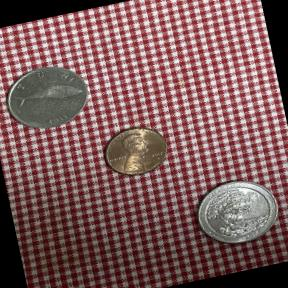coin: (183, 169, 288, 257), (0, 54, 100, 142), (94, 116, 178, 185)
